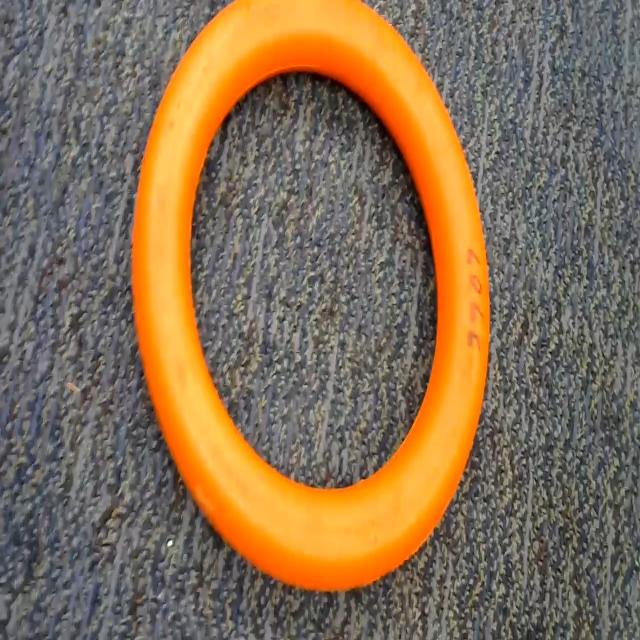note: (130, 0, 512, 585)
